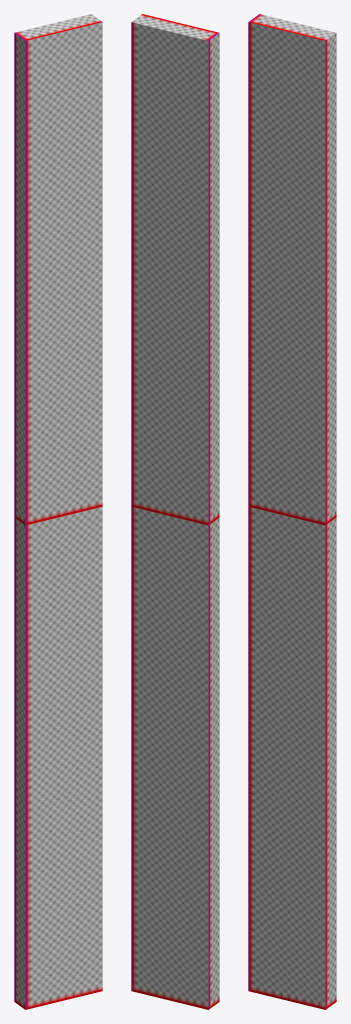
Rendered from Table.fbx.
The picture shows the model from 3 angles, left to right: view 1: azimuth 30°, elevation 25°; view 2: azimuth 150°, elevation 25°; view 3: azimuth 330°, elevation 25°; orthographic projection.
Visible parts, largest first — view 1: Table; view 2: Table; view 3: Table.
Part boxes in pixels (<box>): Table: <box>14,14,102,1009</box>; Table: <box>131,14,219,1009</box>; Table: <box>248,14,336,1009</box>.
Size of the model in its own units: 50 by 600 by 12.5.
